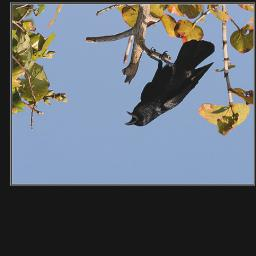Crow: (124, 40, 215, 128)
